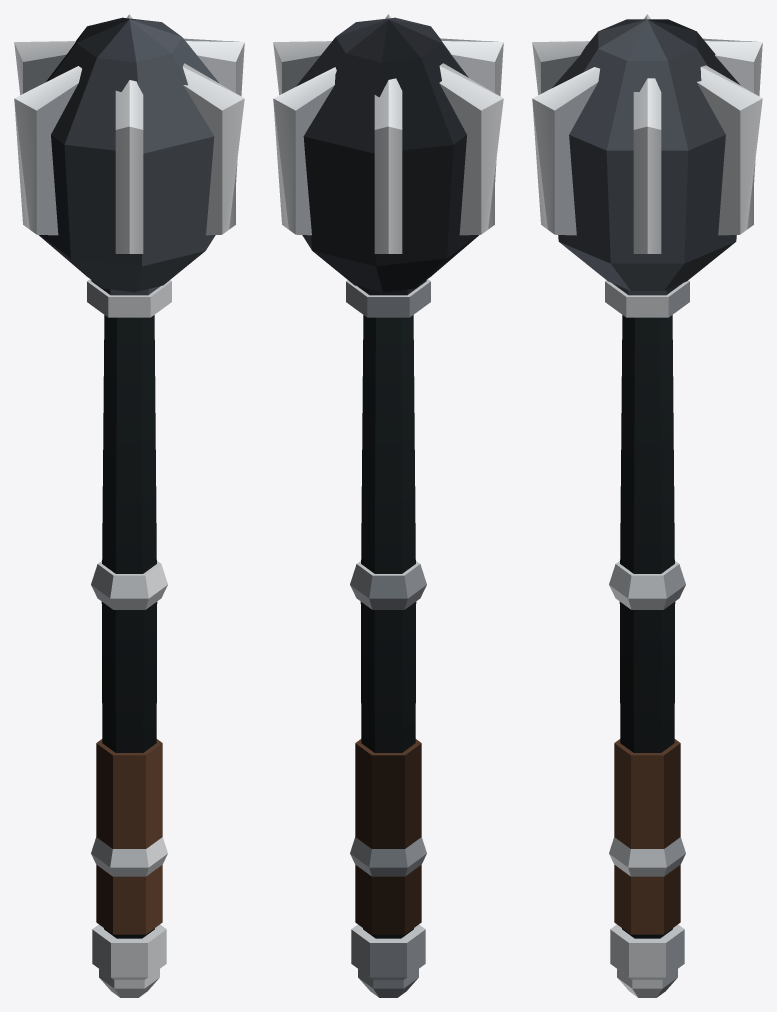
File: knight_mace_2.gltf
3 views of the same model, side by side, from view 1: azimuth 30°, elevation 25°; view 2: azimuth 150°, elevation 25°; view 3: azimuth 270°, elevation 25° (orthographic).
Parts seen in each view (by area): view 1: knight_mace_2; view 2: knight_mace_2; view 3: knight_mace_2.
Boxes of the visible parts, x1,y1,x2,y2 form: knight_mace_2: (14,14,244,997); knight_mace_2: (273,14,503,997); knight_mace_2: (532,14,762,997).
Size of the model in its own units: 0.3501 by 1.41 by 0.3032.
Materials: 1 (1 with a texture image).
